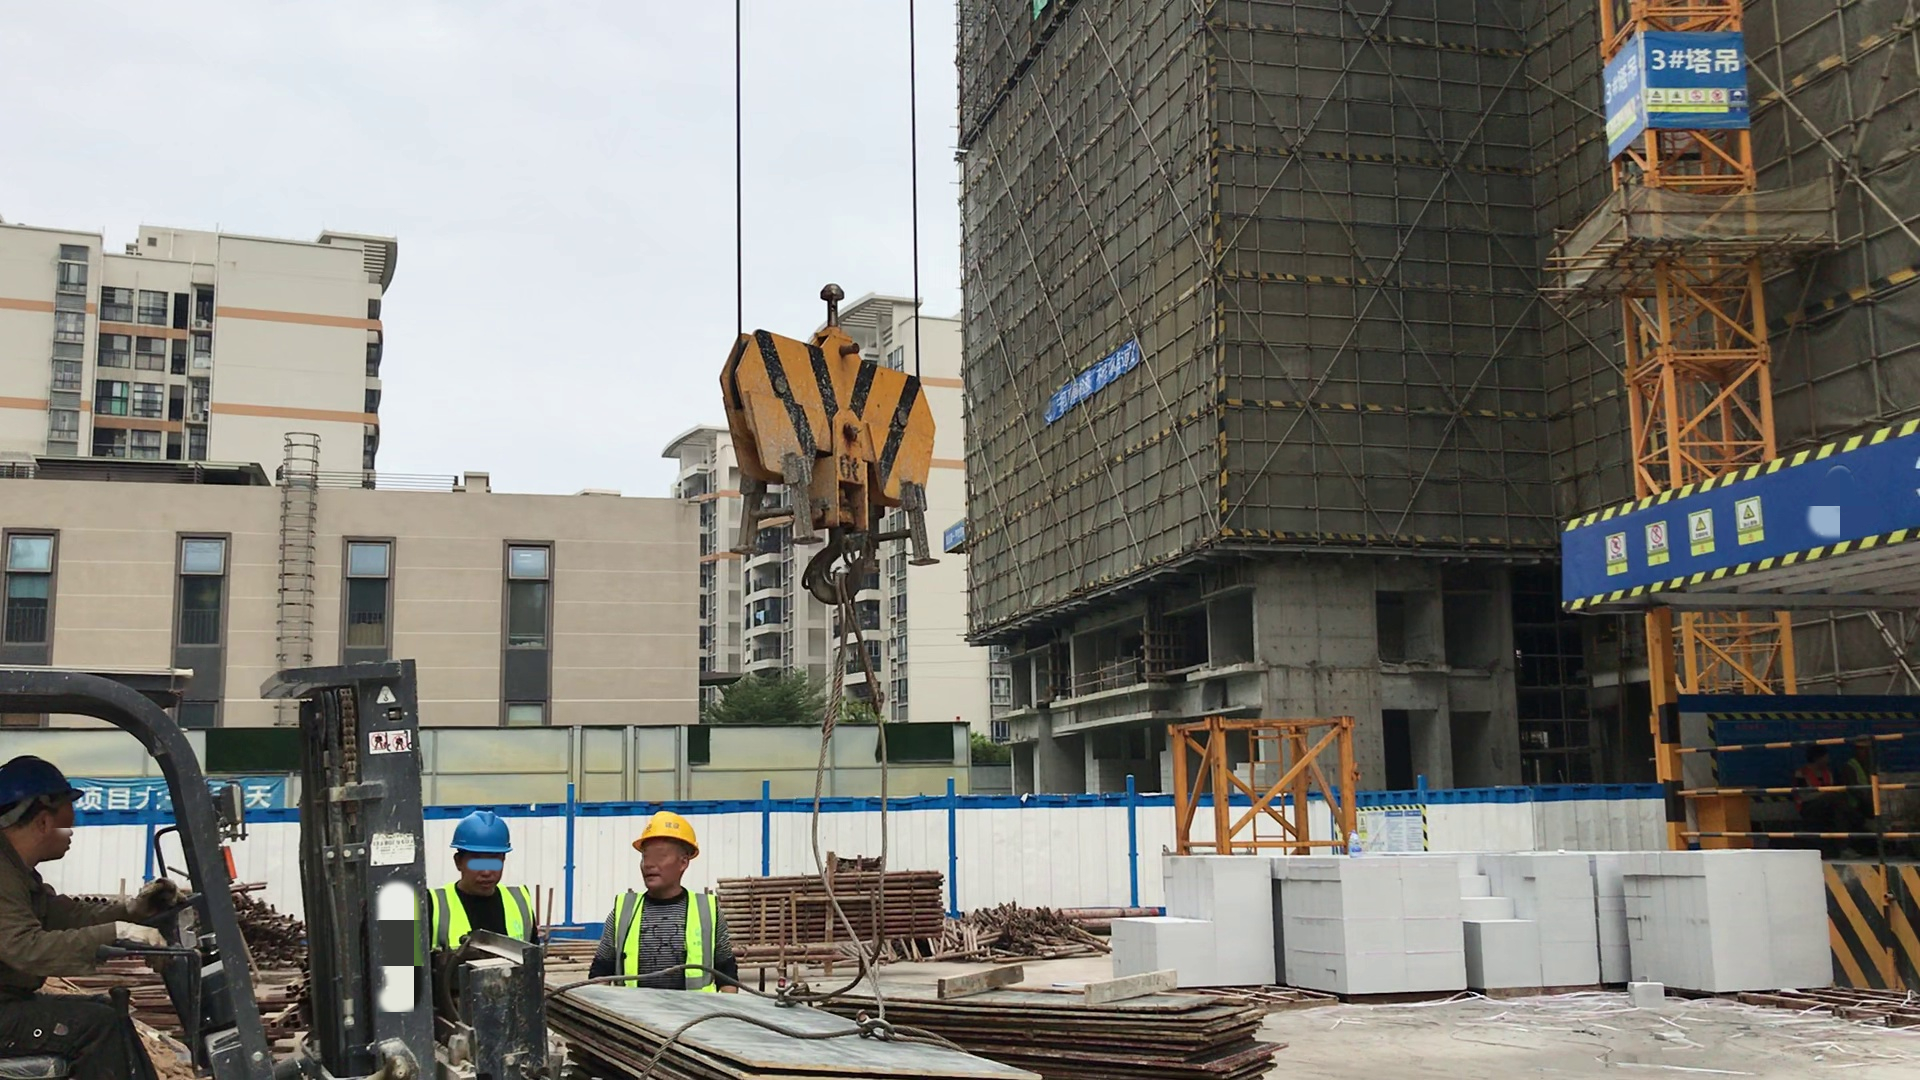board: (553, 978, 1048, 1080), (867, 975, 1306, 1080)
brick: (1615, 831, 1837, 1000), (1276, 846, 1472, 998), (1105, 838, 1282, 985), (1472, 830, 1620, 1000)
helmet: (1, 758, 82, 822), (630, 807, 702, 855), (450, 813, 516, 855)
hook: (712, 270, 953, 593)
person: (1, 754, 181, 1034), (584, 802, 766, 990), (415, 809, 562, 995)
scaffold: (724, 868, 950, 941)
slogan: (86, 770, 290, 833), (1050, 342, 1137, 420)
vest: (610, 893, 719, 991), (427, 891, 539, 950)
